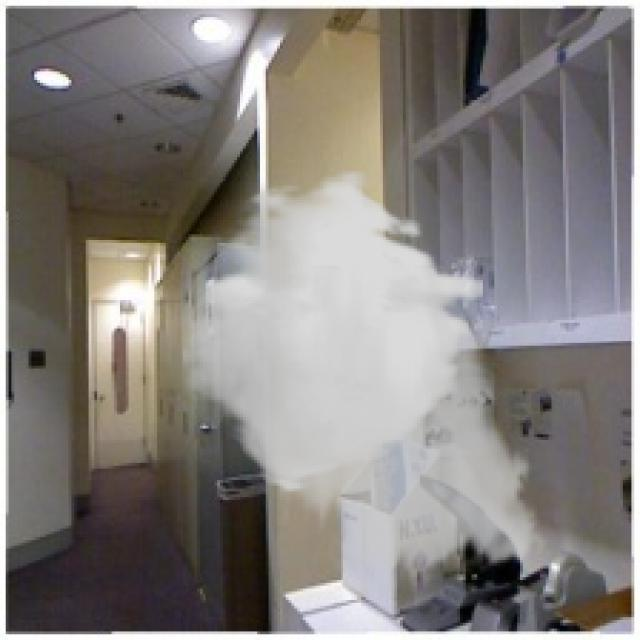Smoke: (182, 168, 554, 592)
